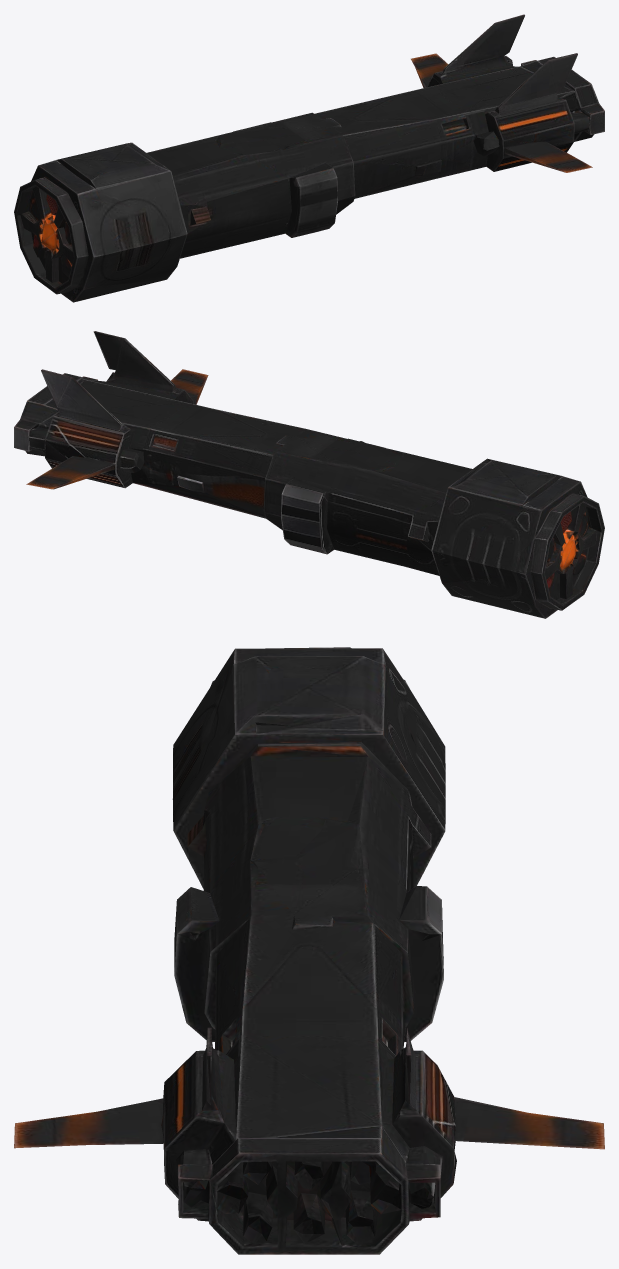
File: fx-siege-torpedo.glb
3 renders of one model, top to bottom at view 1: azimuth 30°, elevation 25°; view 2: azimuth 150°, elevation 25°; view 3: azimuth 270°, elevation 25°, orthographic. The views are drawn at different scales.
Bounding box in the file's own units: 1.9 × 0.471 × 0.9769.
1 material, 1 textured.
